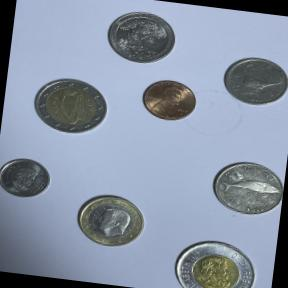coin: (20, 67, 122, 149), (198, 149, 288, 228), (95, 0, 188, 75), (62, 184, 156, 258), (161, 226, 270, 288), (131, 70, 208, 132), (0, 150, 59, 207)
